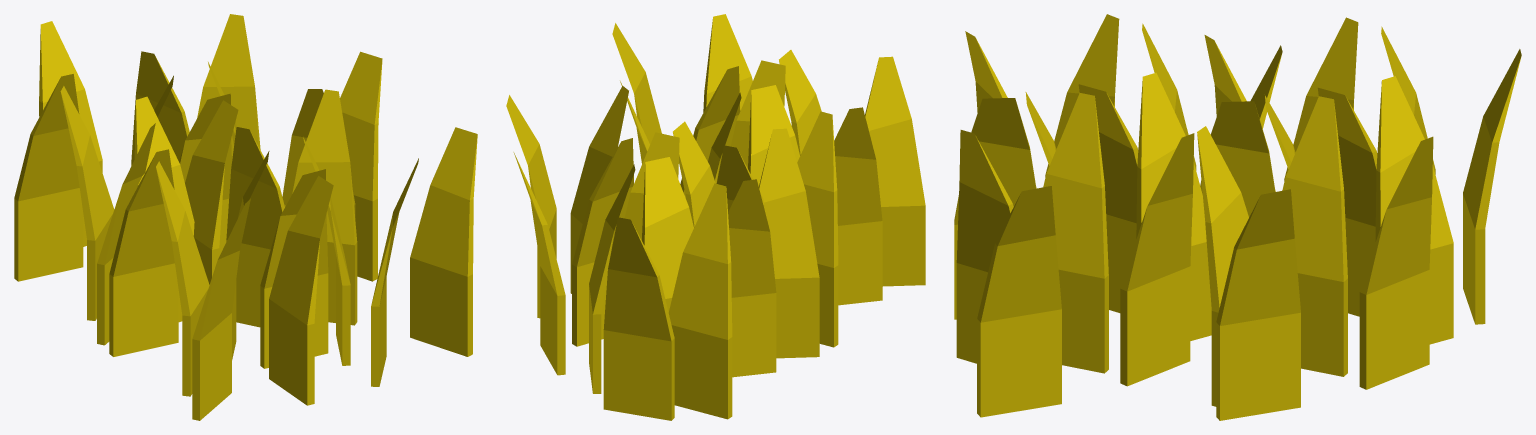
The model's file is Grass#5.fbx.
The picture shows the model from 3 angles, left to right: view 1: azimuth 30°, elevation 25°; view 2: azimuth 150°, elevation 25°; view 3: azimuth 270°, elevation 25°; orthographic projection. The views are drawn at different scales.
Visible parts, largest first — view 1: Grass#5; view 2: Grass#5; view 3: Grass#5.
Boxes of the visible parts, x1,y1,x2,y2 form: Grass#5: [14, 14, 477, 420]; Grass#5: [506, 14, 925, 420]; Grass#5: [954, 14, 1521, 420].
Size of the model in its own units: 52.93 by 35.25 by 72.1.
